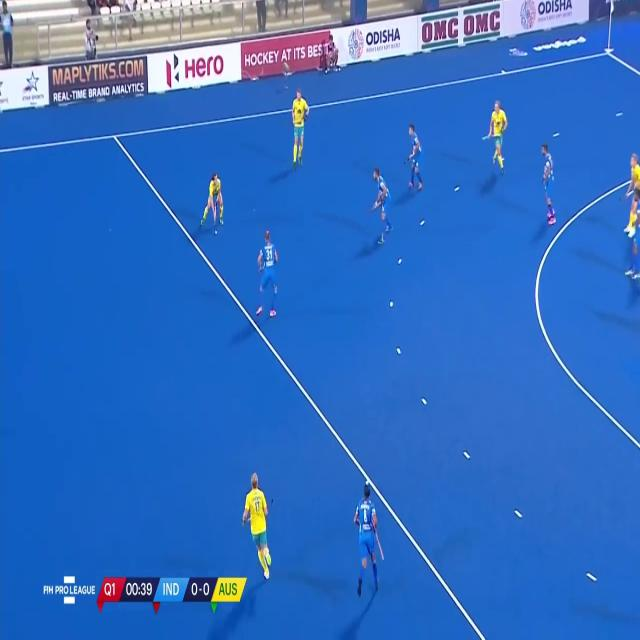ball: (213, 228, 219, 237)
